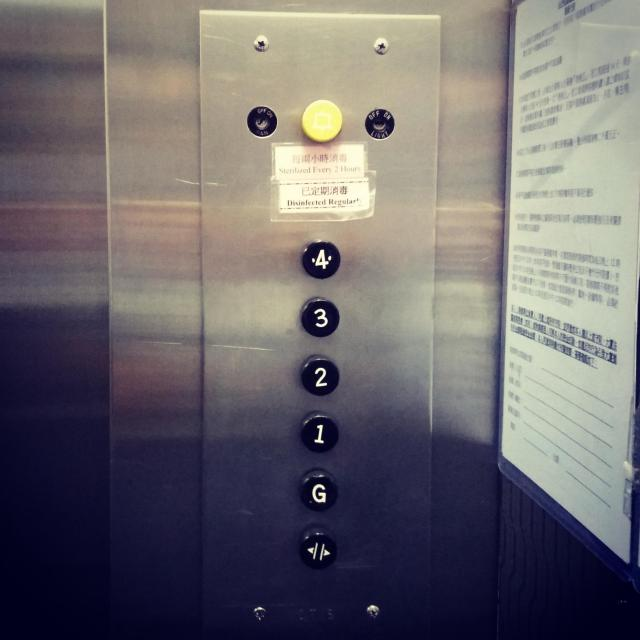1: (299, 412, 339, 452)
2: (299, 356, 340, 396)
3: (299, 298, 340, 337)
4: (301, 238, 341, 280)
G: (299, 468, 339, 511)
alarm: (301, 99, 342, 142)
keyhole: (246, 106, 279, 137), (364, 108, 394, 142)
open: (300, 527, 338, 568)
